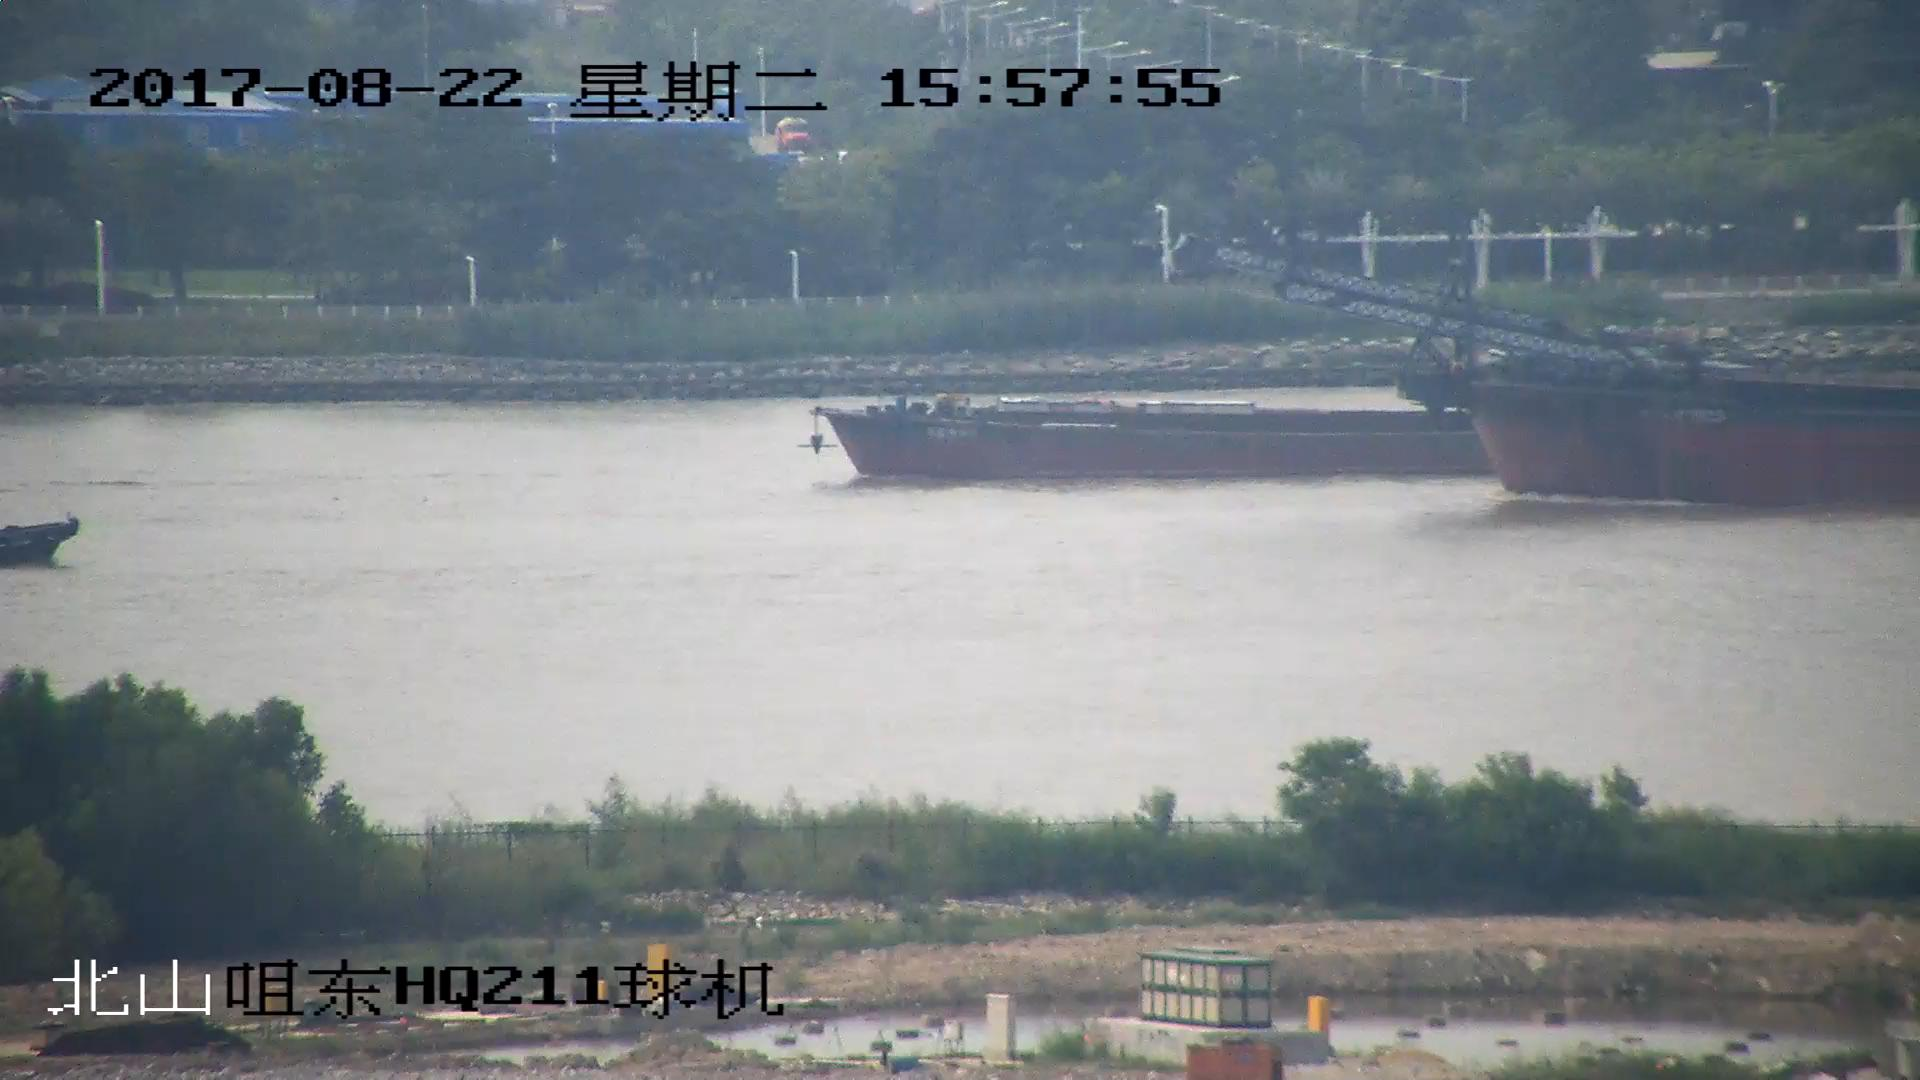bulk cargo carrier: (1170, 229, 1920, 515), (810, 388, 1512, 482)
